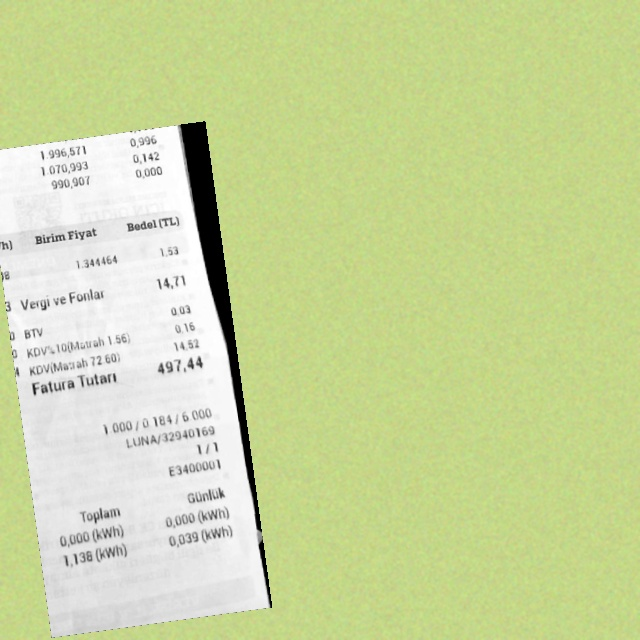electricity-bill: (0, 120, 272, 637)
